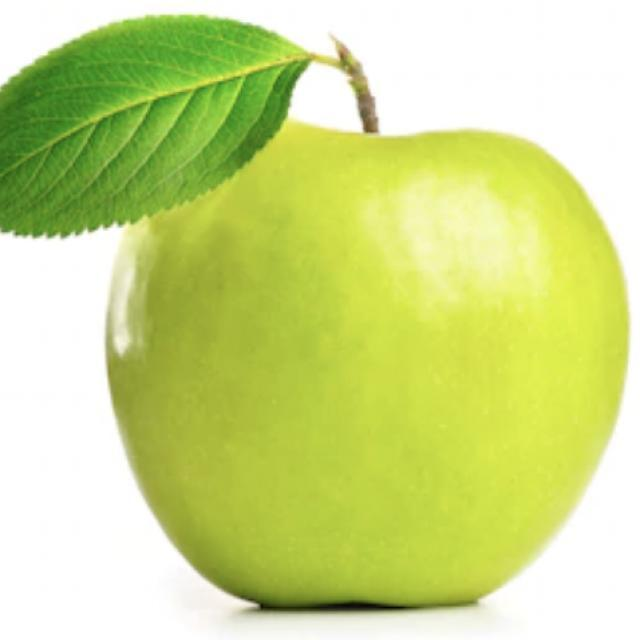Fresh Apple: (135, 123, 623, 590)
